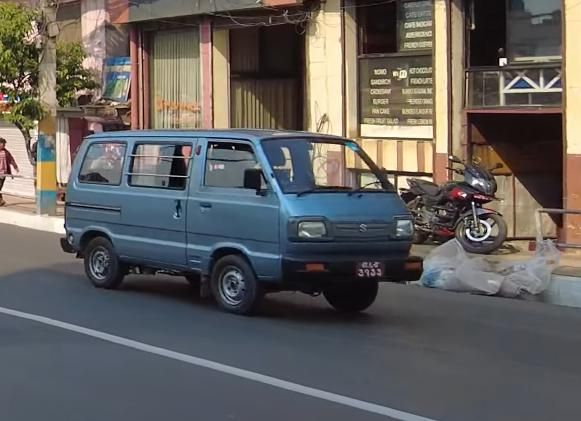van: (58, 120, 431, 325)
